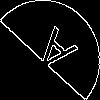A: (25, 25, 79, 82)
